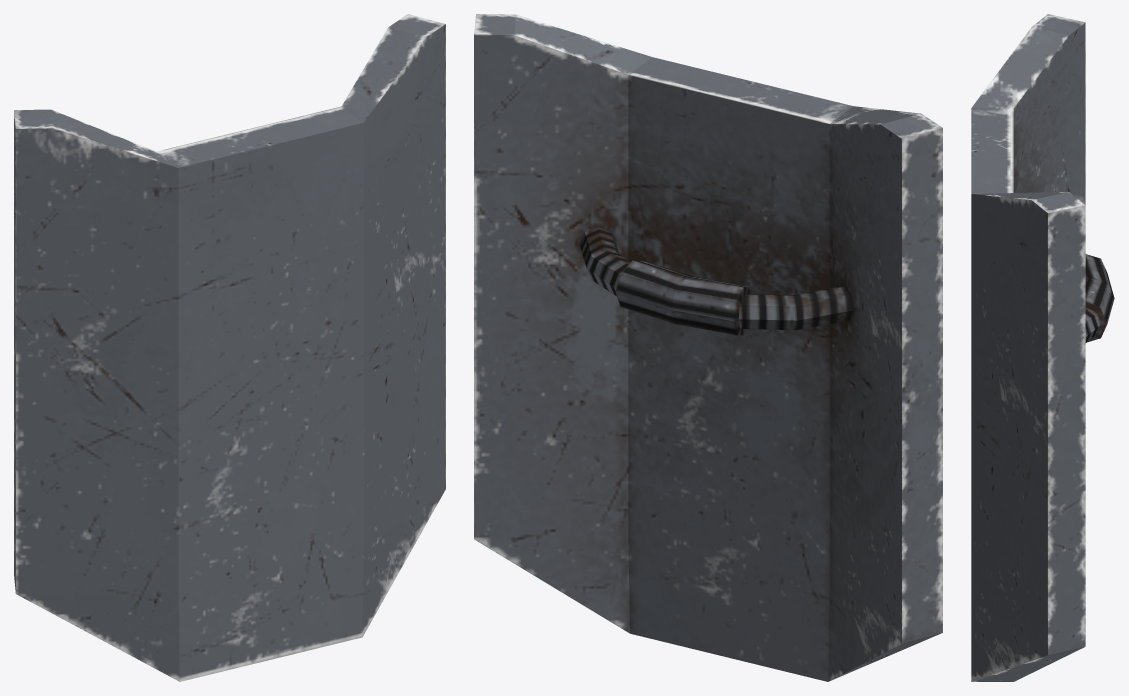
File: MainShield 1.fbx
The picture shows the model from 3 angles, left to right: view 1: azimuth 30°, elevation 25°; view 2: azimuth 150°, elevation 25°; view 3: azimuth 270°, elevation 25°; orthographic projection. The views are drawn at different scales.
Parts seen in each view (by area): view 1: MainShield; view 2: MainShield; view 3: MainShield.
Boxes of the visible parts, x1,y1,x2,y2 form: MainShield: (14, 14, 445, 681); MainShield: (474, 14, 942, 681); MainShield: (971, 14, 1114, 681).
Bounding box in the file's own units: 604 × 743 × 183.
1 material, 1 textured.
